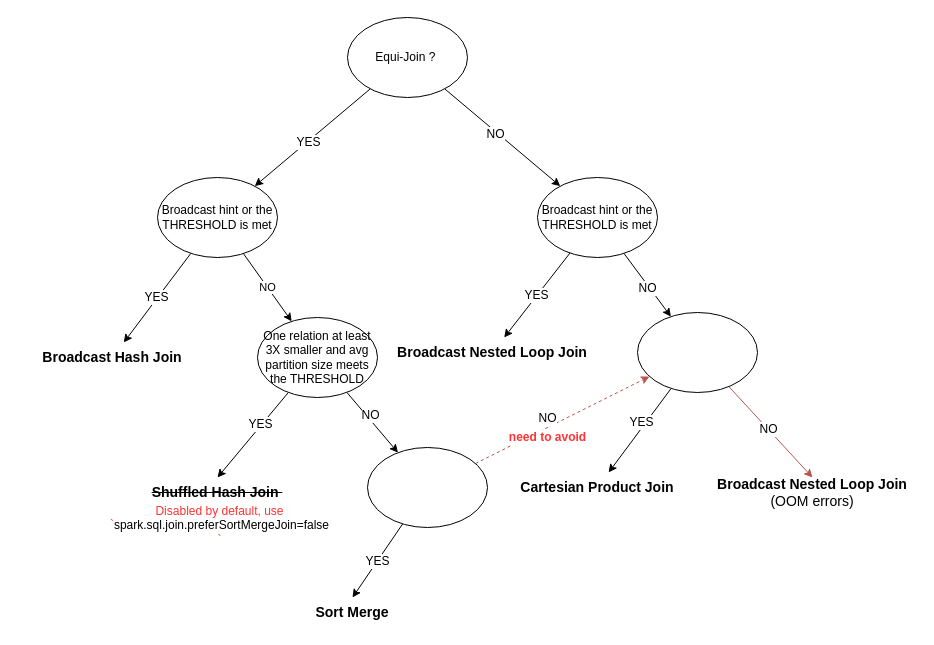
Image size: 934x645. Some labels were removed from this diagram. The shapes that lost their labels are listed below. From the top down, each one's centre as x and y in pixels, then its label:
At [697,352]: "Inner Join?".
At [427,487]: "Join Keys are Sortable?".
